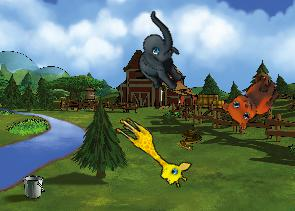bear: (217, 64, 284, 135)
elephant: (115, 10, 204, 98)
giraffe: (106, 113, 196, 191)
